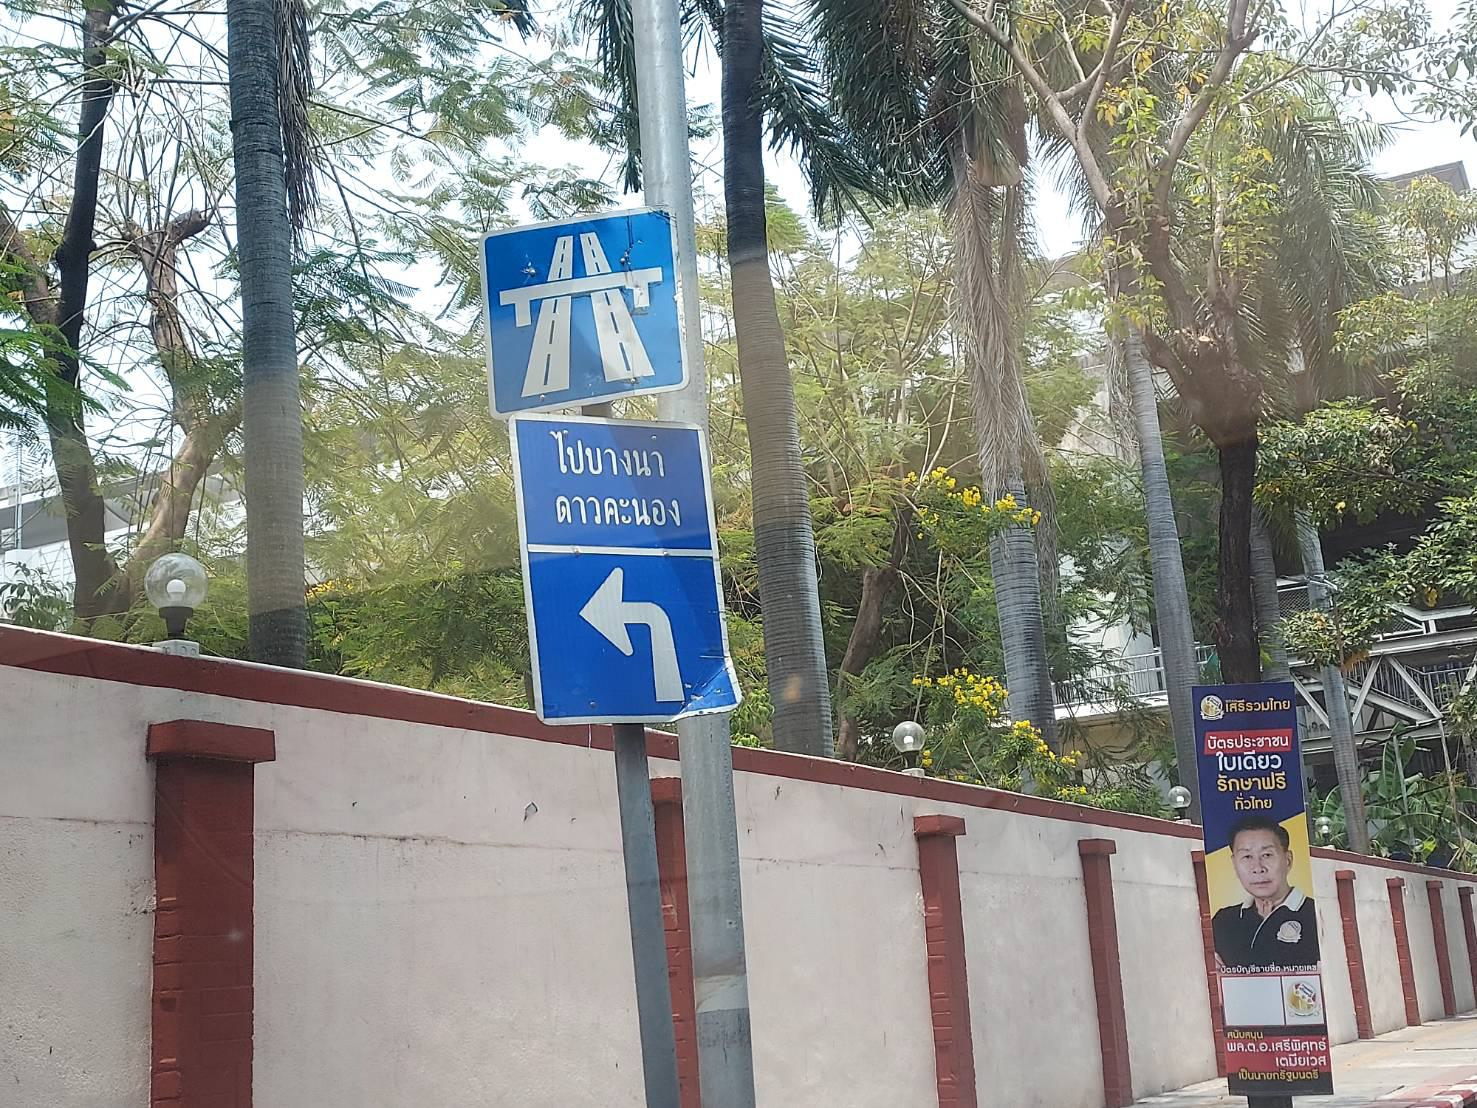Banner: (1185, 686, 1335, 1101)
